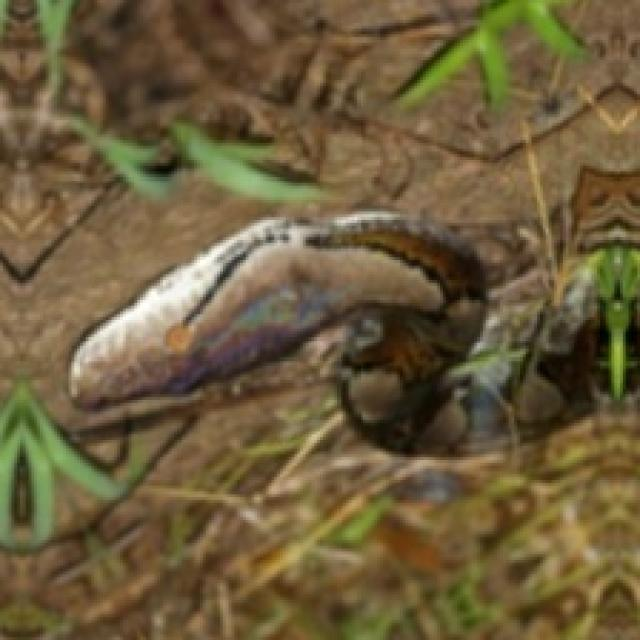reticulated python: (69, 211, 529, 449), (69, 211, 483, 446), (534, 169, 637, 397)
